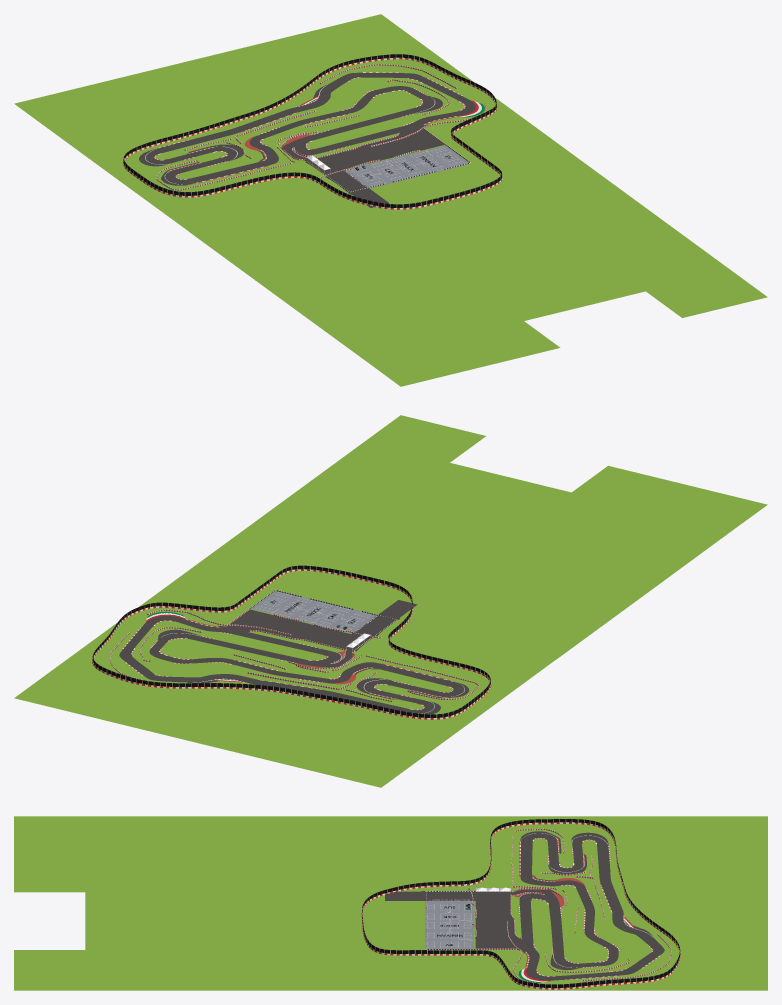
Rendered from parking_lot2test.glb.
The picture shows the model from 3 angles, top to bottom: view 1: azimuth 30°, elevation 25°; view 2: azimuth 150°, elevation 25°; view 3: azimuth 270°, elevation 25°; orthographic projection. The views are drawn at different scales.
Parts seen in each view (by area): view 1: Plane.009_standard_material_0.001, Plane.009, TRACK, Cube, TRACK.001, PARKING_PARKING_0.001, PARKING_PARKING_0.003, TRACK.001_Material.001_0.002; view 2: Plane.009_standard_material_0.001, Plane.009, TRACK, Cube, TRACK.001, PARKING_PARKING_0.001, PARKING_PARKING_0.003, TRACK.001_Material.001_0.002; view 3: Plane.009_standard_material_0.001, Plane.009, TRACK, Cube, TRACK.001, TRACK.001_Material.001_0.001, PARKING_PARKING_0.003, PARKING_PARKING_0.001, TRACK.001_Material.001_0.002, PARKING_PARKING_0.002, PARKING.
Part boxes in pixels (x1,y1,x2,y2): Plane.009_standard_material_0.001: [189, 142, 767, 386]; Plane.009: [14, 14, 555, 231]; TRACK: [139, 72, 484, 185]; Cube: [123, 54, 502, 209]; TRACK.001: [307, 130, 444, 169]; PARKING_PARKING_0.001: [387, 145, 457, 169]; PARKING_PARKING_0.003: [397, 154, 469, 178]; TRACK.001_Material.001_0.002: [325, 172, 389, 207]; Plane.009_standard_material_0.001: [189, 415, 767, 659]; Plane.009: [14, 570, 555, 787]; TRACK: [119, 611, 469, 715]; Cube: [92, 565, 491, 719]; TRACK.001: [230, 609, 352, 651]; PARKING_PARKING_0.001: [251, 600, 321, 623]; PARKING_PARKING_0.003: [264, 591, 335, 613]; TRACK.001_Material.001_0.002: [356, 600, 417, 636]; Plane.009_standard_material_0.001: [14, 816, 427, 990]; Plane.009: [427, 816, 767, 990]; TRACK: [511, 831, 664, 982]; Cube: [361, 819, 680, 989]; TRACK.001: [475, 892, 514, 948]; TRACK.001_Material.001_0.001: [425, 891, 508, 900]; PARKING_PARKING_0.003: [425, 920, 449, 949]; PARKING_PARKING_0.001: [450, 921, 473, 948]; TRACK.001_Material.001_0.002: [385, 890, 468, 900]; PARKING_PARKING_0.002: [425, 901, 449, 921]; PARKING: [450, 901, 474, 921].
Size of the model in its own units: 63.26 by 1.13 by 115.
Materials: 38 (11 with a texture image).
